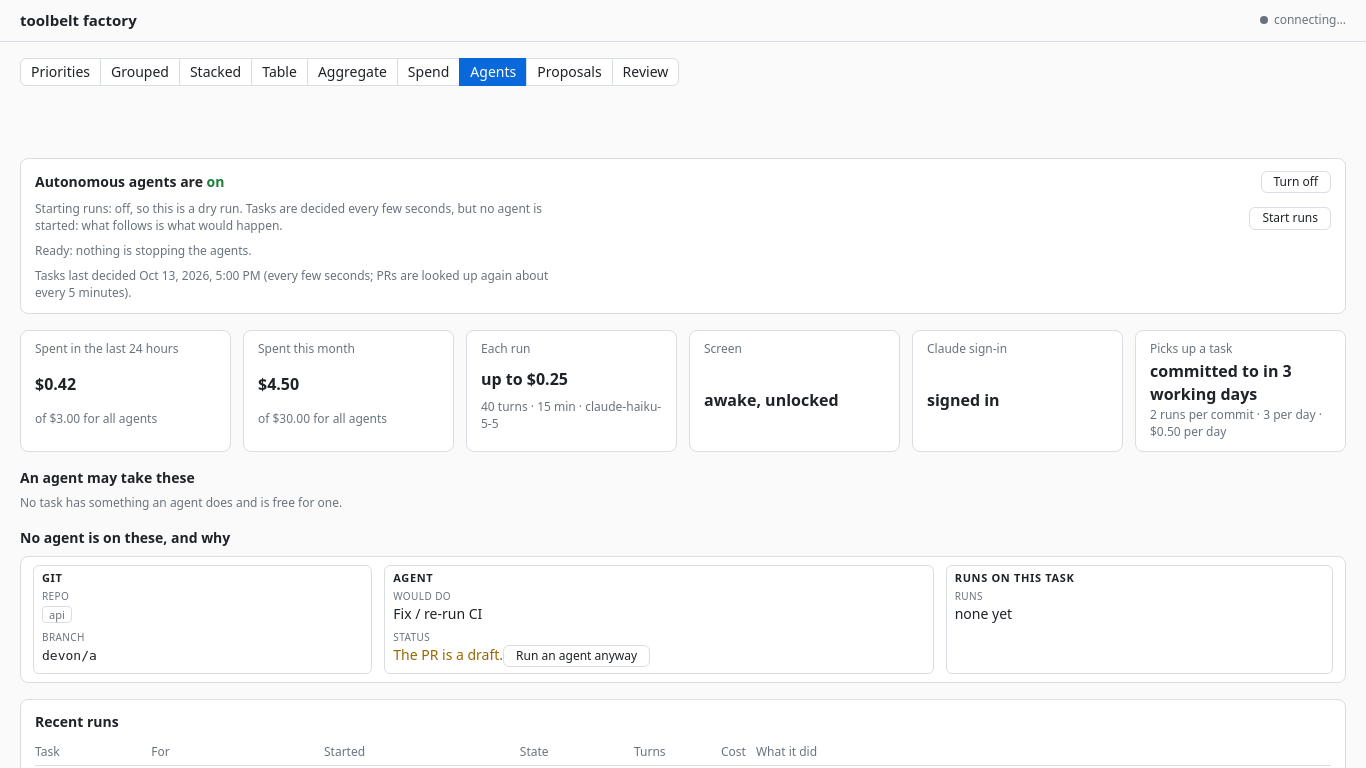
Test case: the agents view › when a reason still stops a hand start, it says which
Click the button "Run an agent anyway". click: [577, 656]
box: [503,644,650,667]
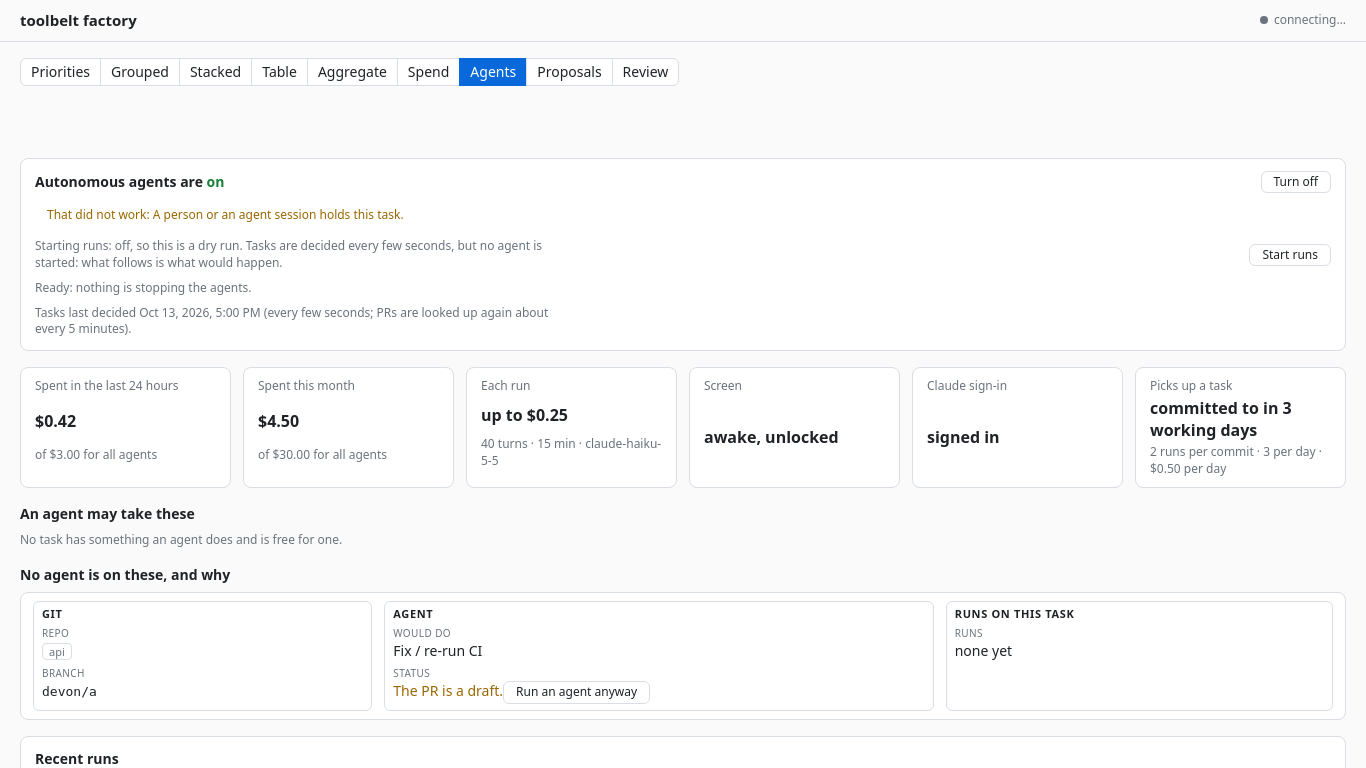
Check: the text "That did not work: A person or an agent session holds this task." is shown, box [47,206,404,223]
